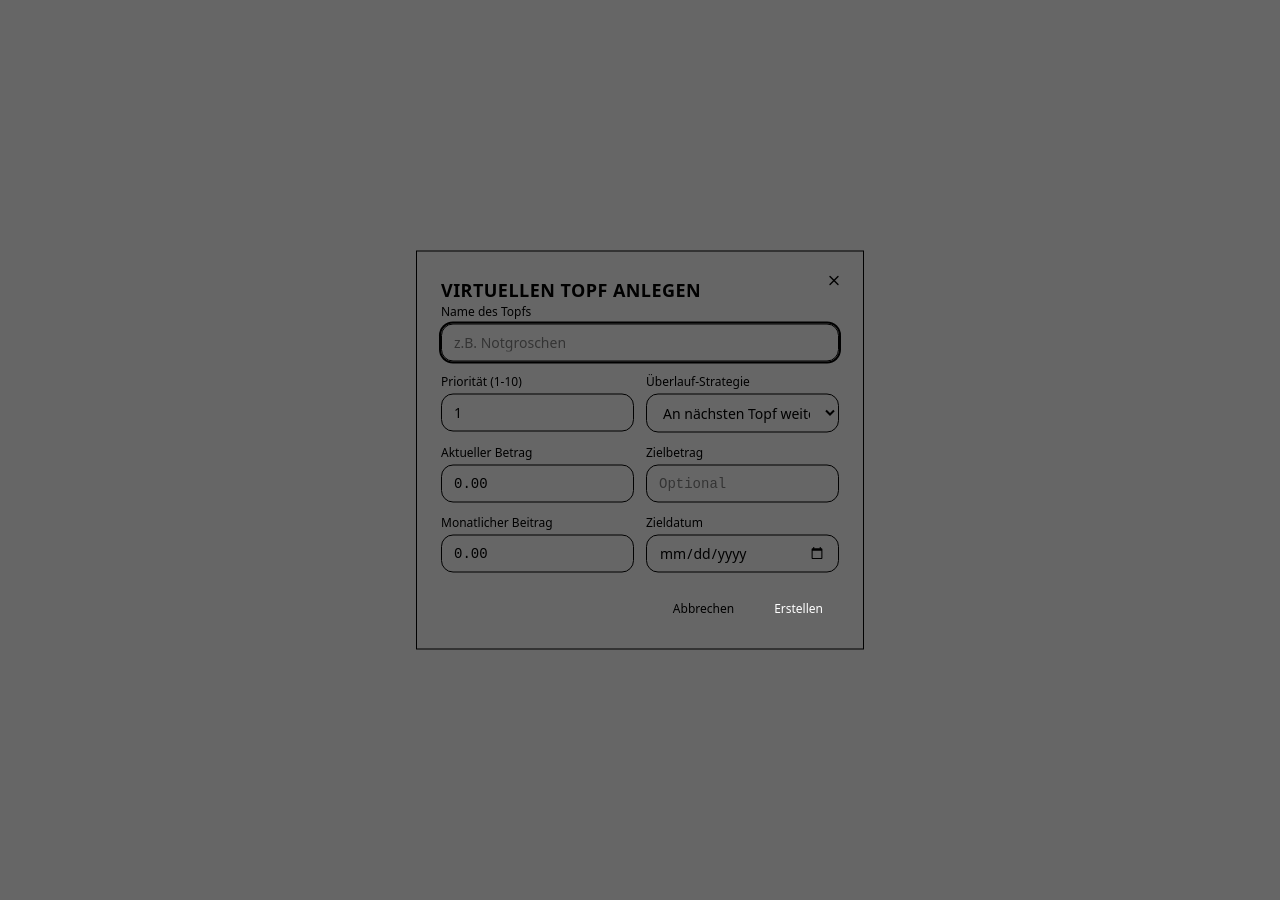
dialogs surface failed saves › PotDialog shows the failure
Type "Reserve" into the field labelled "Name des Topfs" at x=640, y=342, box [441,324,839,362]
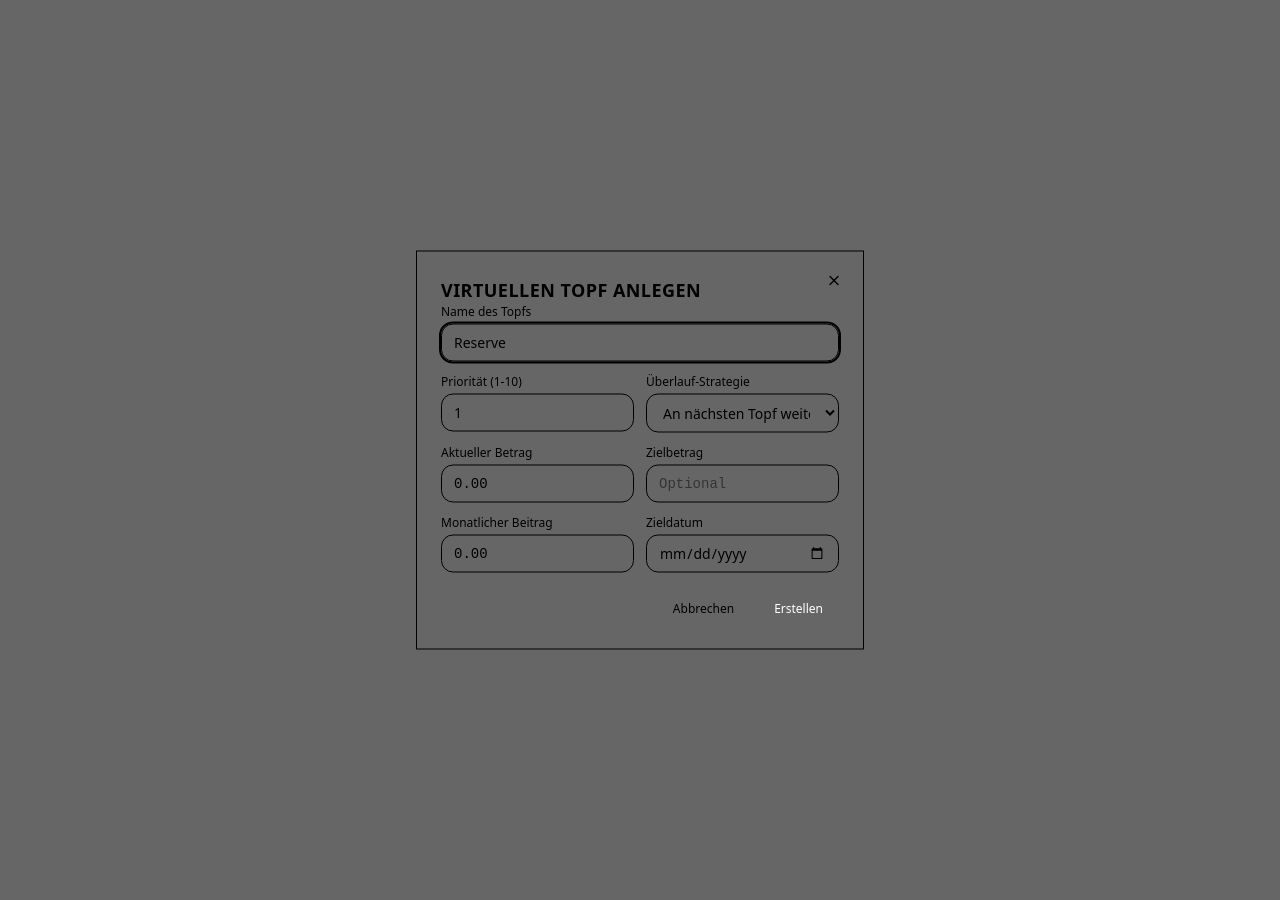
Submit the form labelled "Name des Topfs", box [441,304,839,624]
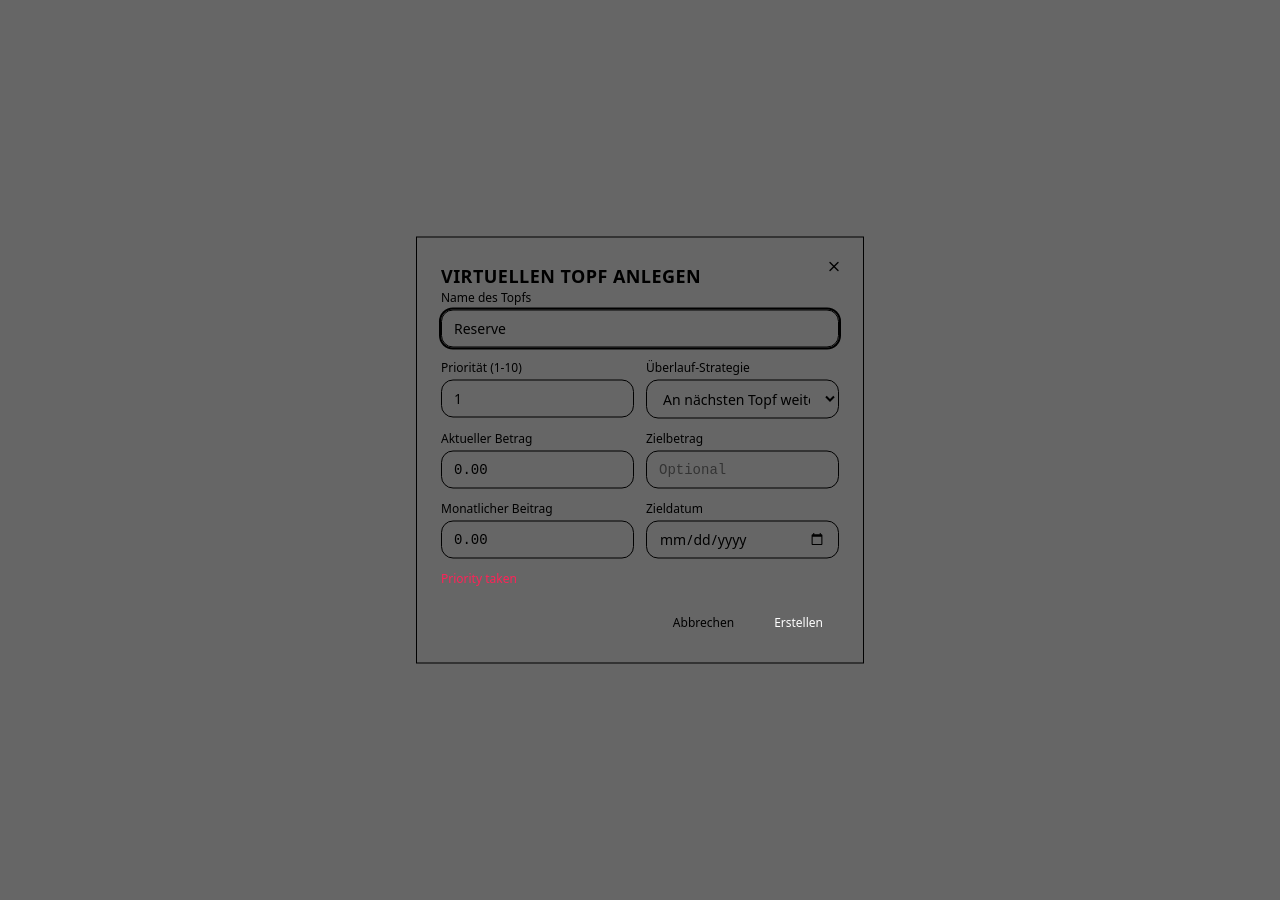
Expected: the message reads "Priority taken", [441,570,517,586]
